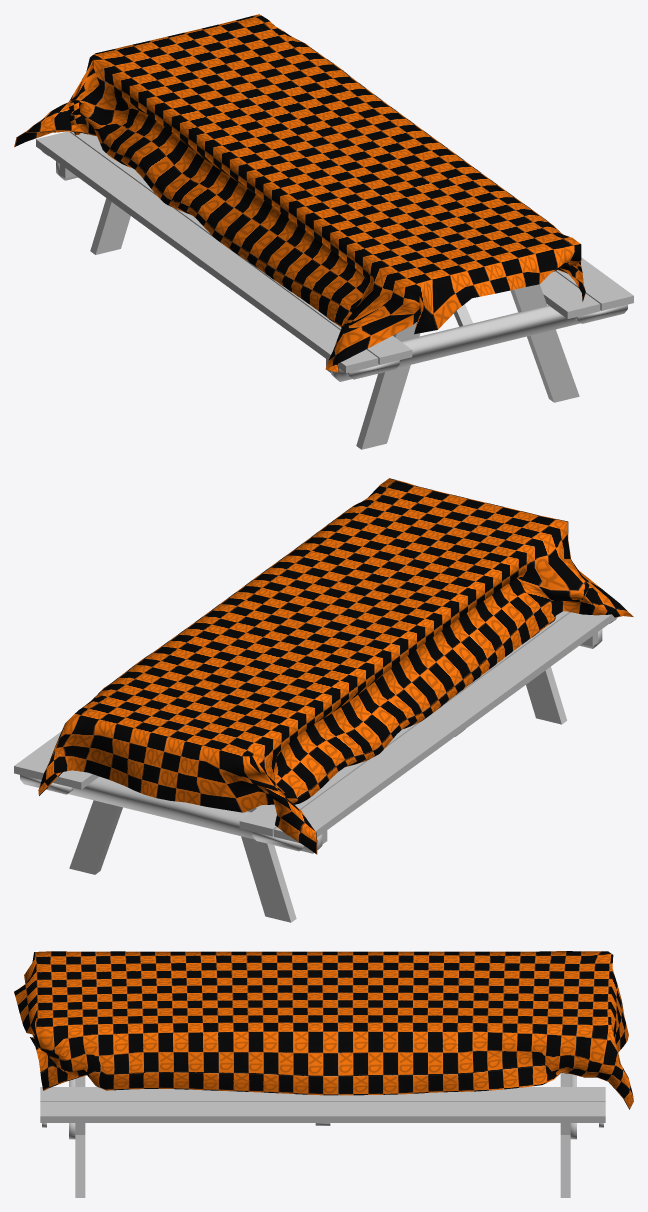
Rendered from picnic table.fbx.
The picture shows the model from 3 angles, top to bottom: view 1: azimuth 30°, elevation 25°; view 2: azimuth 150°, elevation 25°; view 3: azimuth 270°, elevation 25°; orthographic projection. The views are drawn at different scales.
Parts seen in each view (by area): view 1: picnic table; view 2: picnic table; view 3: picnic table.
Boxes of the visible parts, left/top/right/bottom form: picnic table: left=14, top=14, right=633, bottom=449; picnic table: left=14, top=478, right=633, bottom=922; picnic table: left=14, top=951, right=633, bottom=1197.
Bounding box in the file's own units: 208 × 113 × 402.
